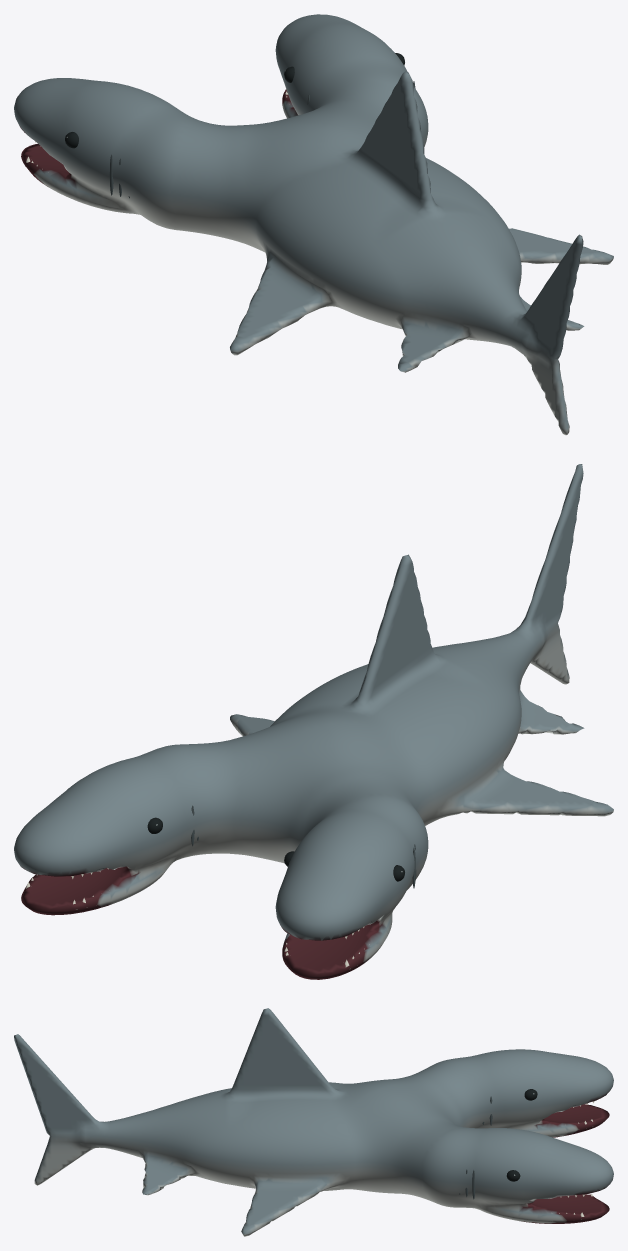
The model's file is hydra_2.glb.
3 views of the same model, one above another, from view 1: azimuth 30°, elevation 25°; view 2: azimuth 150°, elevation 25°; view 3: azimuth 270°, elevation 25° (orthographic). The views are drawn at different scales.
Visible parts, largest first — view 1: UnifiedHydra; view 2: UnifiedHydra; view 3: UnifiedHydra.
Boxes of the visible parts, x1,y1,x2,y2 form: UnifiedHydra: (14,14,613,435); UnifiedHydra: (14,464,613,979); UnifiedHydra: (14,1008,613,1236).
Size of the model in its own units: 2.32 by 1.43 by 4.36.
